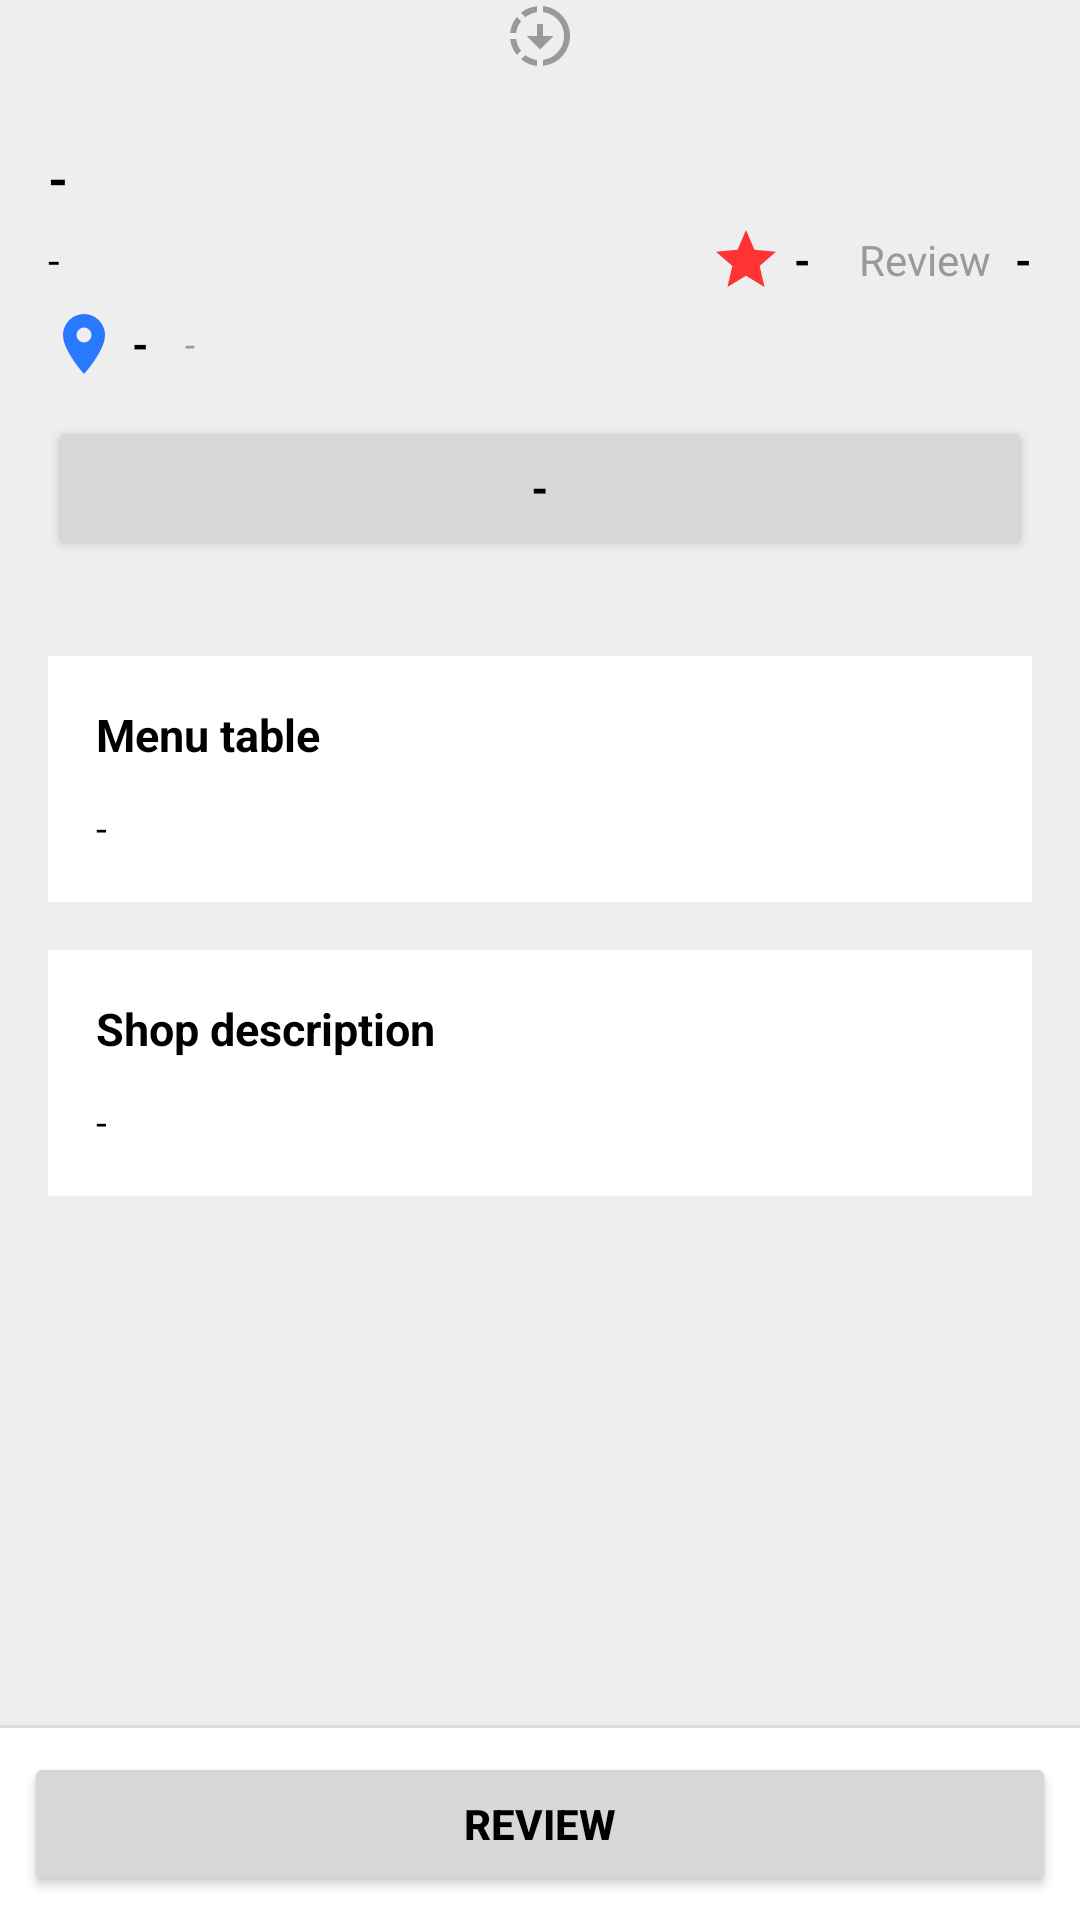

Where icons sit on this 1080x1920 app screen, as (x1, y1, x2, y2):
map marker: (63, 314, 105, 374)
progress download: (510, 6, 570, 66)
star: (716, 230, 776, 287)
